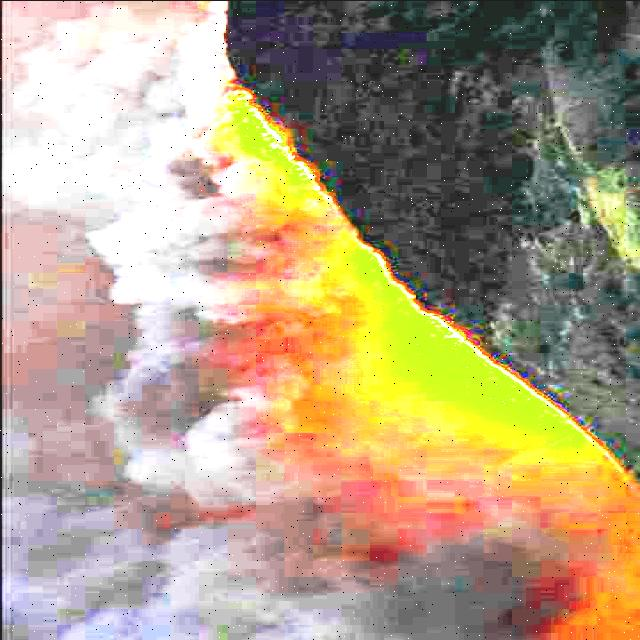api: (241, 91, 330, 193), (425, 314, 472, 346)
asap: (51, 77, 331, 501), (182, 18, 232, 124)
